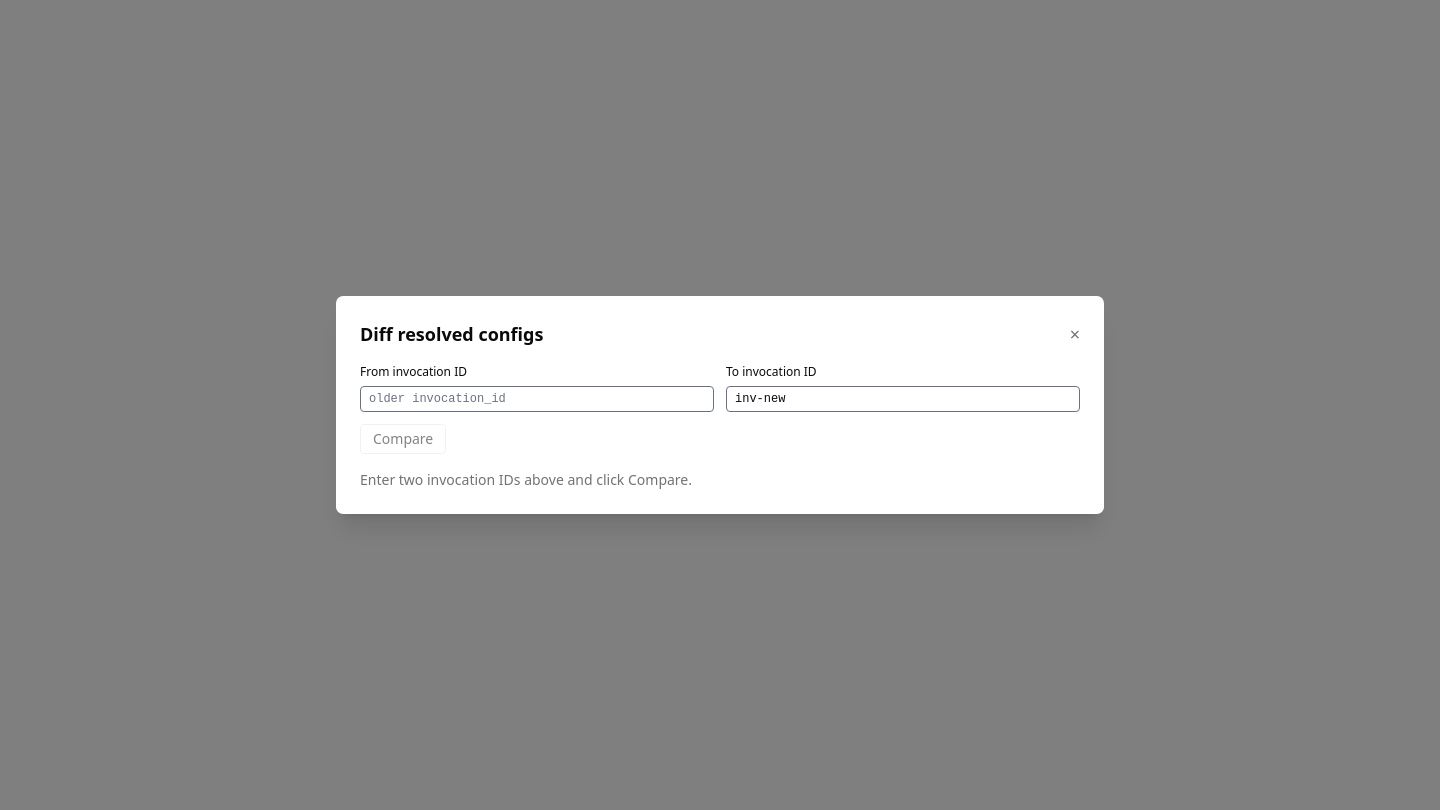
DiffModal › shows diff after Compare is clicked with both IDs filled
Type "inv-old" into the field labelled "From invocation ID" at x=537, y=399, box x1=360 y1=386 x2=714 y2=412
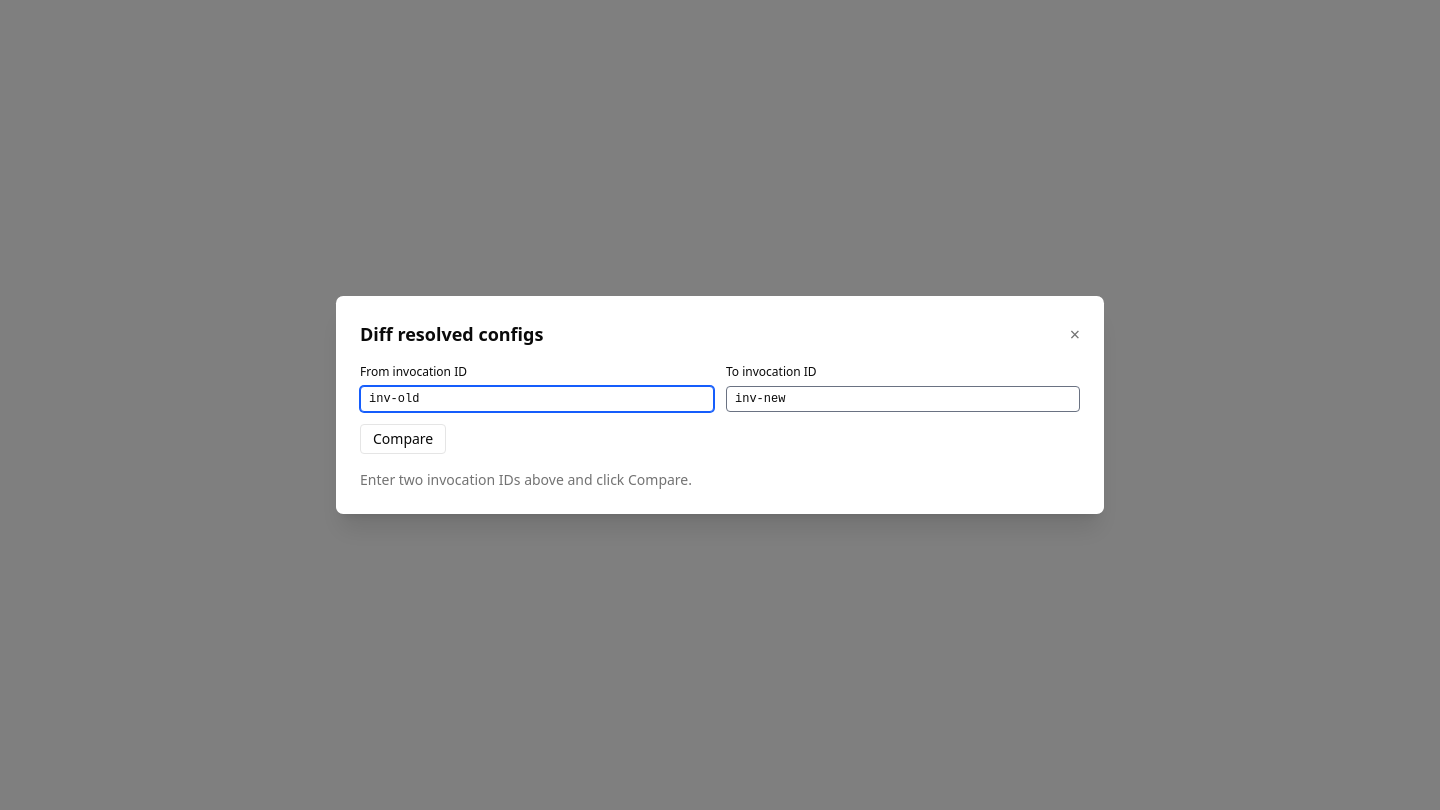
Click the button "Compare" at x=403, y=439, box x1=360 y1=424 x2=446 y2=454
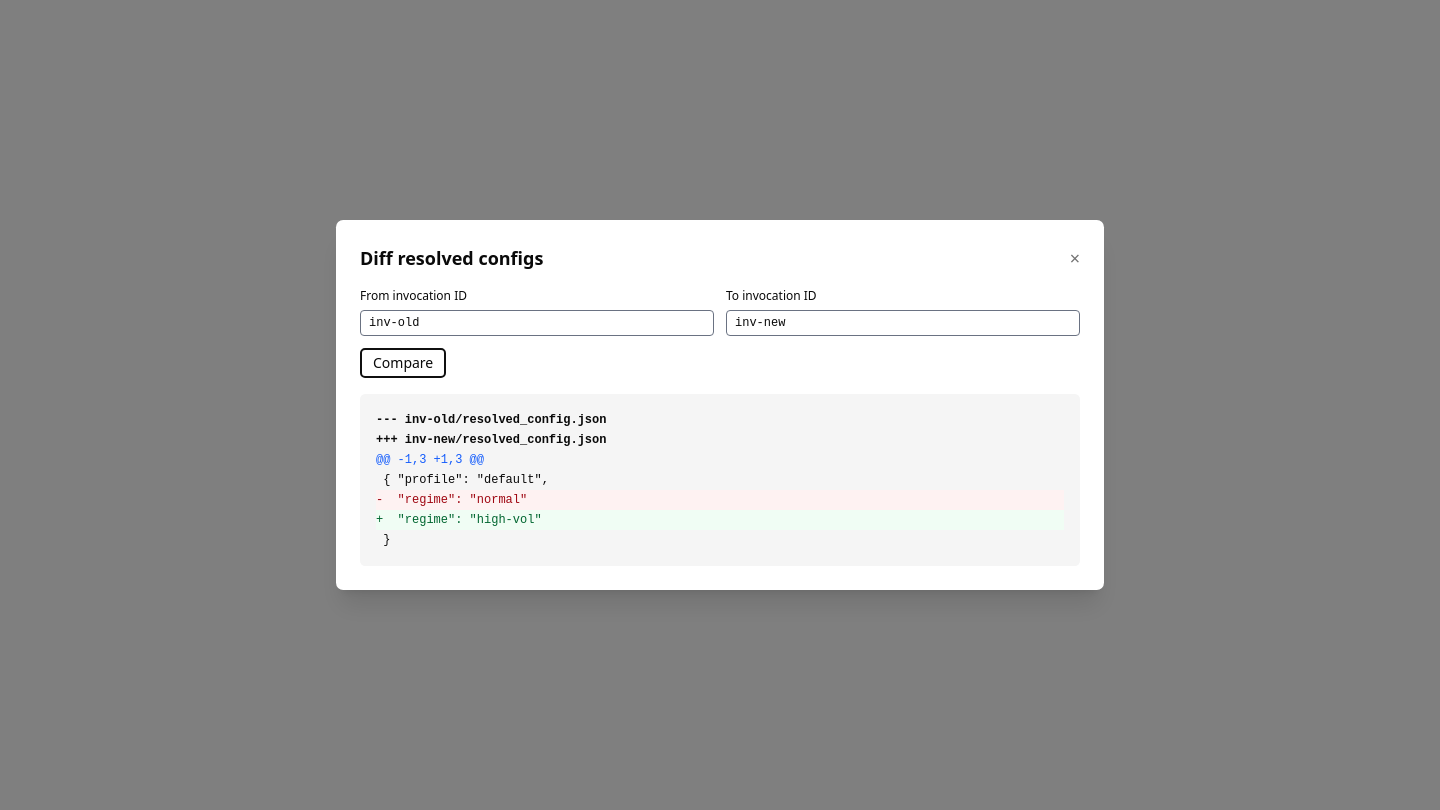
Expected: the text "+ \"regime\": \"high-vol\"" is shown, x1=376 y1=510 x2=1064 y2=530
